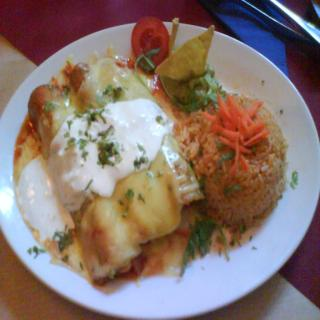tomato: (131, 18, 172, 66)
